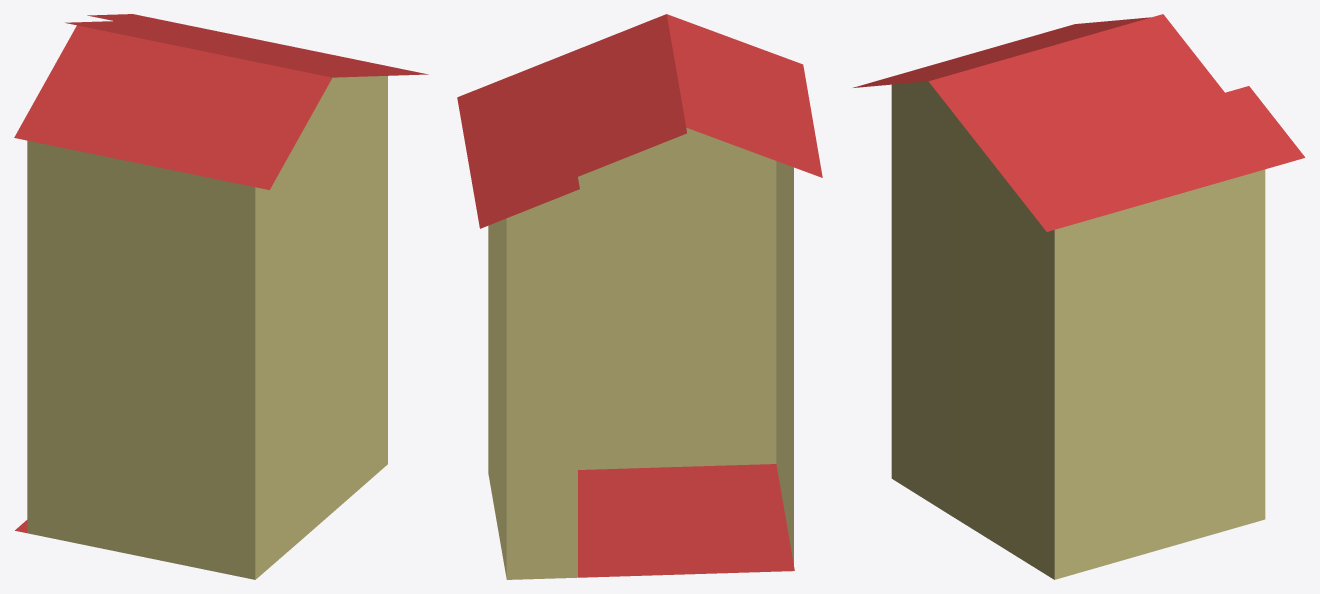
3 renders of one model, left to right at view 1: azimuth 30°, elevation 25°; view 2: azimuth 150°, elevation 25°; view 3: azimuth 270°, elevation 25°, orthographic. The views are drawn at different scales.
Size of the model in its own units: 7.55 by 7.81 by 8.38.
